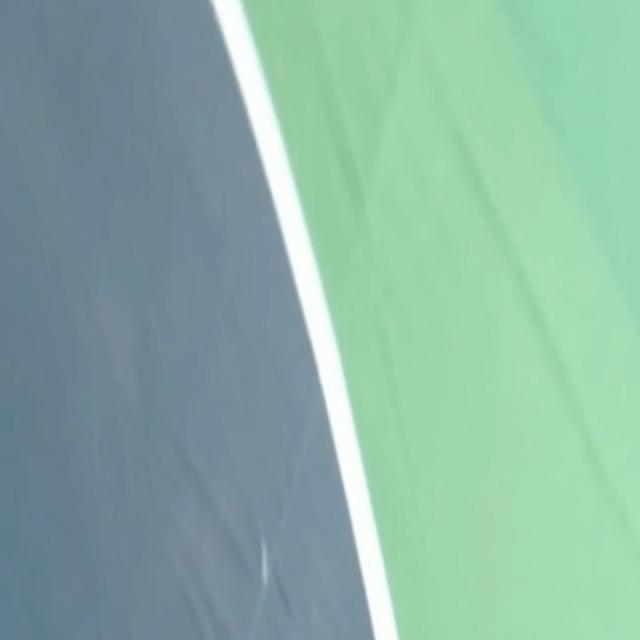right: (211, 0, 397, 639)
